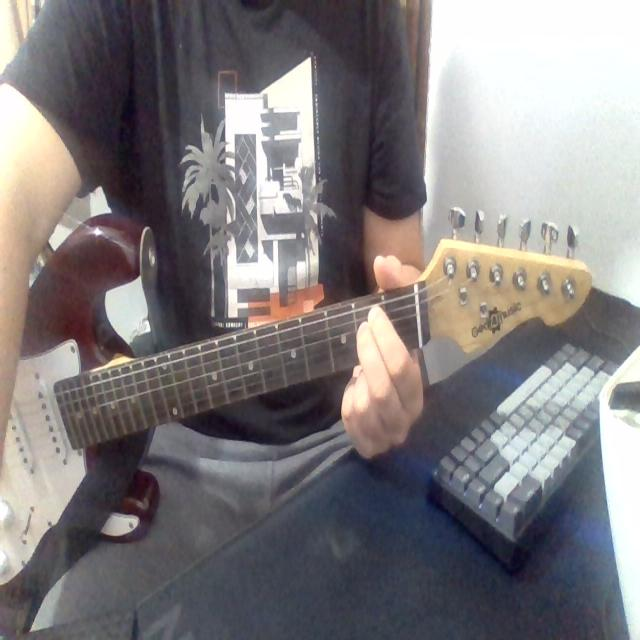Em: (347, 291, 430, 455)
